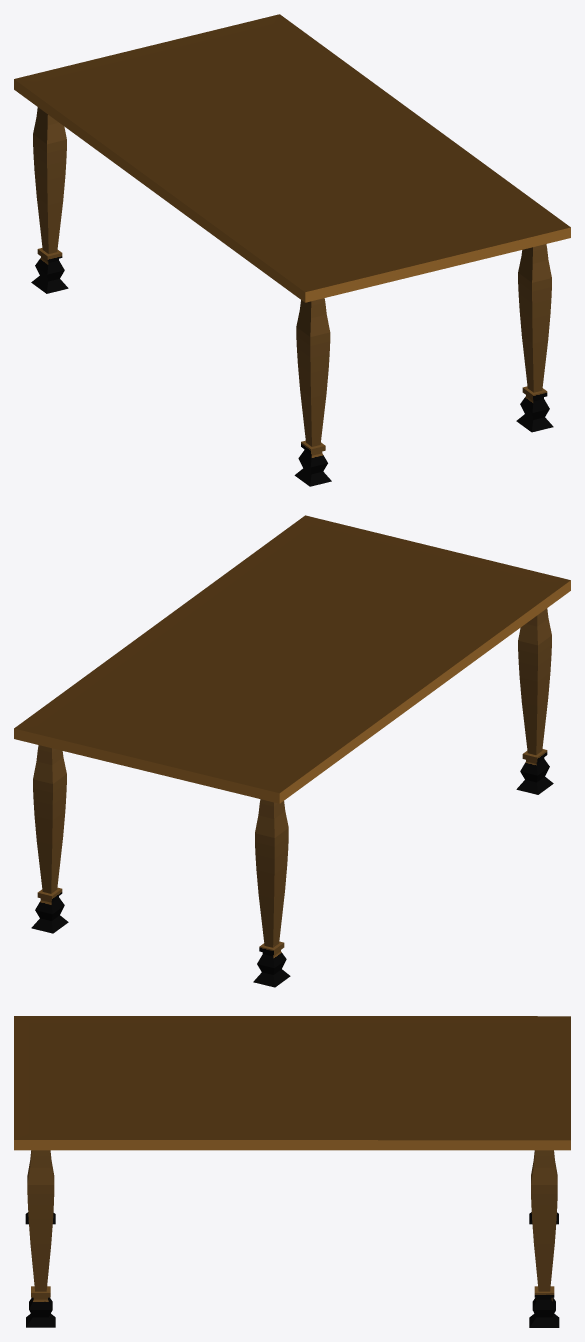
The model's file is testTable.fbx.
3 views of the same model, one above another, from view 1: azimuth 30°, elevation 25°; view 2: azimuth 150°, elevation 25°; view 3: azimuth 270°, elevation 25° (orthographic). The views are drawn at different scales.
Visible parts, largest first — view 1: Cube; view 2: Cube; view 3: Cube.
Boxes of the visible parts, x1,y1,x2,y2 form: Cube: [14, 14, 570, 486]; Cube: [14, 515, 570, 987]; Cube: [14, 1016, 570, 1327].
Size of the model in its own units: 565 by 410 by 1073.
Materials: 1 (1 with a texture image).
